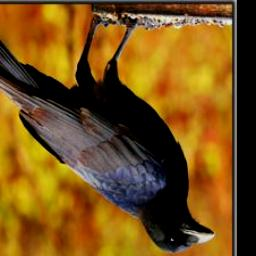Crow: (0, 15, 215, 256)
